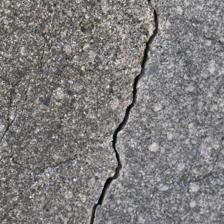Crack: (88, 5, 165, 219)
